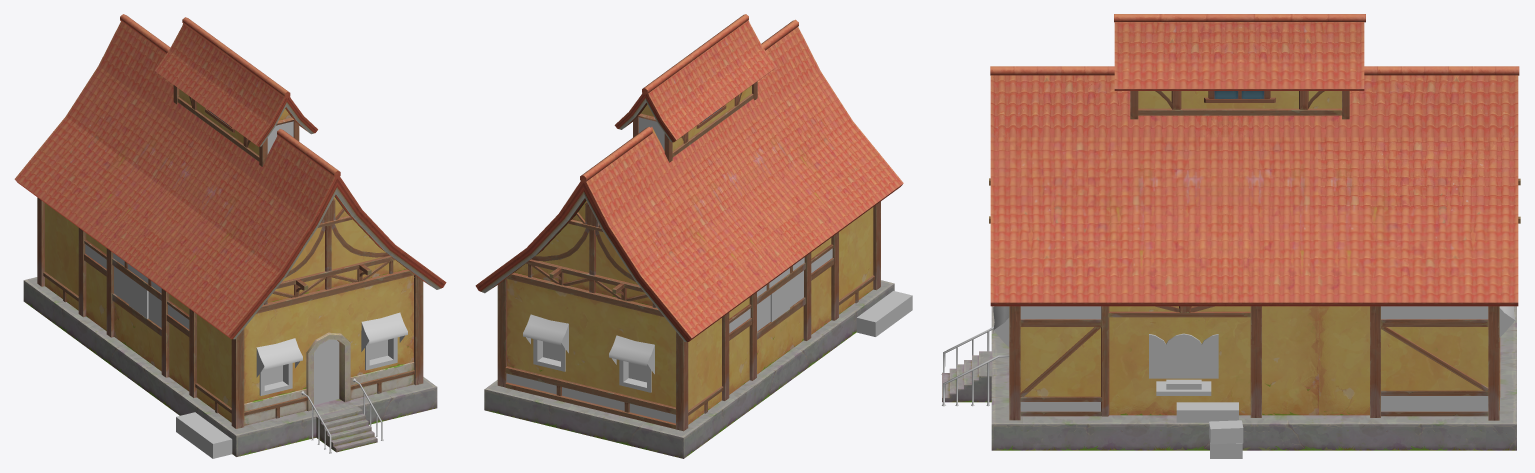
Rendered from Chapter03_Buggy_building05A_LOD.fbx.
The picture shows the model from 3 angles, left to right: view 1: azimuth 30°, elevation 25°; view 2: azimuth 150°, elevation 25°; view 3: azimuth 270°, elevation 25°; orthographic projection. The views are drawn at different scales.
Parts seen in each view (by area): view 1: Chapter03_Buggy_building05A_LOD; view 2: Chapter03_Buggy_building05A_LOD; view 3: Chapter03_Buggy_building05A_LOD.
Boxes of the visible parts, left/top/right/bottom form: Chapter03_Buggy_building05A_LOD: left=14, top=14, right=446, bottom=458; Chapter03_Buggy_building05A_LOD: left=475, top=14, right=912, bottom=458; Chapter03_Buggy_building05A_LOD: left=941, top=14, right=1520, bottom=458.
Bounding box in the file's own units: 912 × 1120 × 1563.
